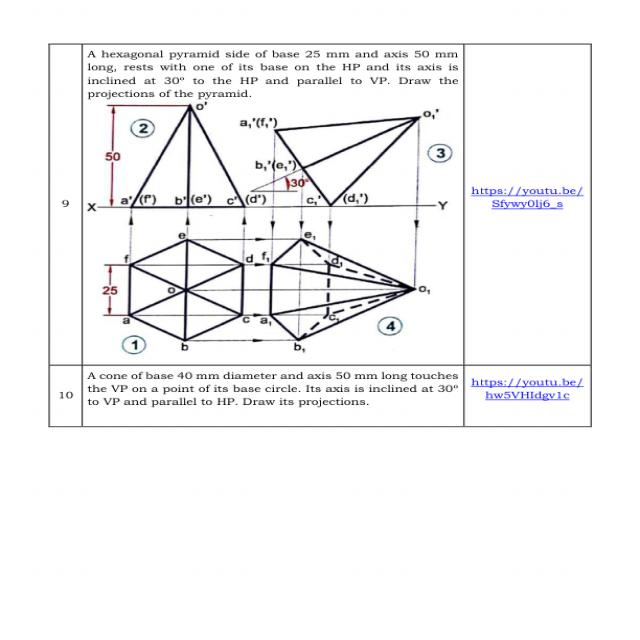Drawings: (79, 103, 455, 361)
